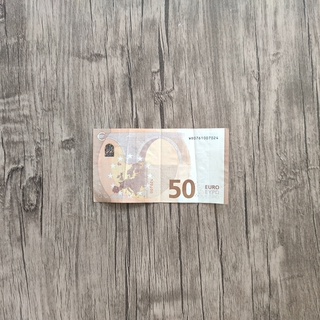50EUROBack: (90, 127, 230, 205)
